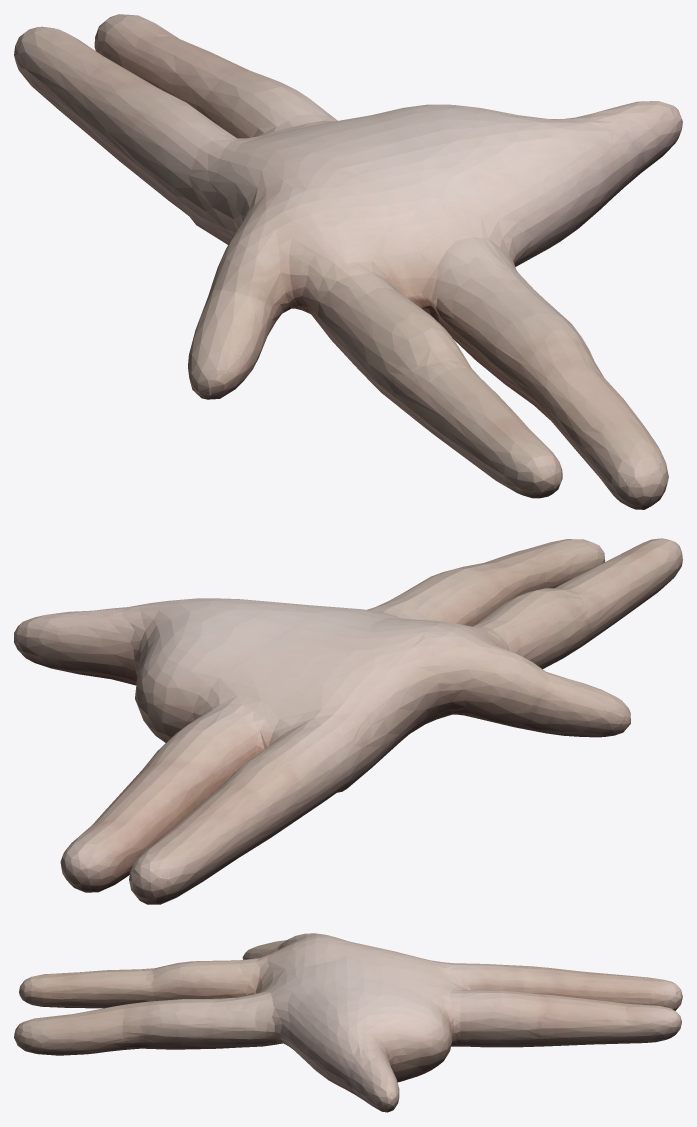
File: hand.glb
3 views of the same model, one above another, from view 1: azimuth 30°, elevation 25°; view 2: azimuth 150°, elevation 25°; view 3: azimuth 270°, elevation 25° (orthographic). The views are drawn at different scales.
Parts seen in each view (by area): view 1: world; view 2: world; view 3: world.
Part boxes in pixels (bbox=[...]): world: bbox=[14, 14, 682, 509]; world: bbox=[14, 538, 682, 904]; world: bbox=[14, 933, 682, 1112].
Bounding box in the file's own units: 0.5995 × 0.1426 × 0.9934.
1 material, 1 textured.
